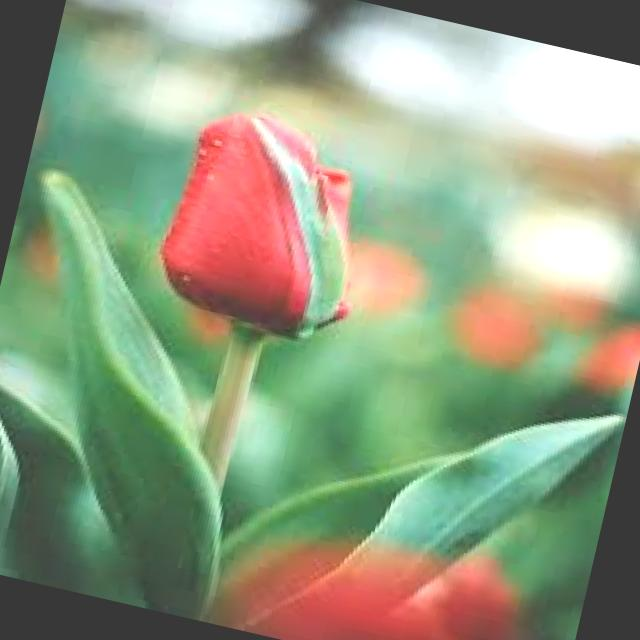tulip: (126, 66, 412, 396)
